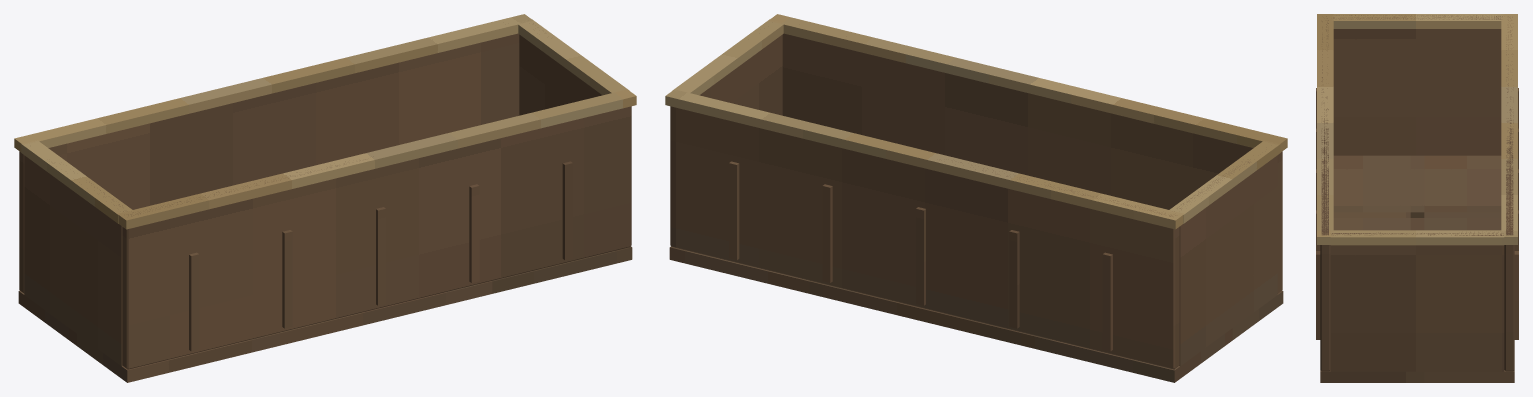
The model's file is vessel-trough.glb.
3 views of the same model, side by side, from view 1: azimuth 30°, elevation 25°; view 2: azimuth 150°, elevation 25°; view 3: azimuth 270°, elevation 25° (orthographic). The views are drawn at different scales.
Visible parts, largest first — view 1: vessel-trough/front-complete-wall, vessel-trough/back-complete-wall, vessel-trough/left-complete-wall, vessel-trough/front-top-rim, vessel-trough/back-top-rim, vessel-trough/right-complete-wall, vessel-trough/drained-floor-panel-2-0, vessel-trough/drained-floor-panel-0-0, vessel-trough/end-top-rim--1, vessel-trough/end-top-rim-1, vessel-trough/drained-floor-panel-4-0, vessel-trough/long-wall-stiffening-rib--1-0 (+5 smaller); view 2: vessel-trough/back-complete-wall, vessel-trough/front-complete-wall, vessel-trough/left-complete-wall, vessel-trough/back-top-rim, vessel-trough/front-top-rim, vessel-trough/right-complete-wall, vessel-trough/drained-floor-panel-2-2, vessel-trough/drained-floor-panel-0-2, vessel-trough/end-top-rim--1, vessel-trough/end-top-rim-1, vessel-trough/drained-floor-panel-4-2, vessel-trough/long-wall-stiffening-rib-1-0 (+5 smaller); view 3: vessel-trough/right-complete-wall, vessel-trough/left-complete-wall, vessel-trough/drained-floor-panel-0-0, vessel-trough/drained-floor-panel-0-2, vessel-trough/back-top-rim, vessel-trough/front-top-rim, vessel-trough/end-top-rim-1, vessel-trough/end-top-rim--1, vessel-trough/front-complete-wall, vessel-trough/back-complete-wall, vessel-trough/drained-floor-panel-4-0, vessel-trough/drained-floor-panel-4-2 (+8 smaller).
Boxes of the visible parts, left/top/right/bottom form: vessel-trough/front-complete-wall: left=122, top=106, right=631, bottom=369; vessel-trough/back-complete-wall: left=19, top=33, right=519, bottom=293; vessel-trough/left-complete-wall: left=24, top=155, right=123, bottom=366; vessel-trough/front-top-rim: left=117, top=89, right=636, bottom=229; vessel-trough/back-top-rim: left=14, top=14, right=533, bottom=152; vessel-trough/right-complete-wall: left=519, top=23, right=602, bottom=115; vessel-trough/drained-floor-panel-2-0: left=280, top=284, right=479, bottom=345; vessel-trough/drained-floor-panel-0-0: left=77, top=334, right=266, bottom=382; vessel-trough/end-top-rim--1: left=21, top=140, right=132, bottom=223; vessel-trough/end-top-rim-1: left=517, top=19, right=629, bottom=95; vessel-trough/drained-floor-panel-4-0: left=492, top=246, right=632, bottom=293; vessel-trough/long-wall-stiffening-rib--1-0: left=189, top=252, right=199, bottom=351; vessel-trough/back-complete-wall: left=670, top=106, right=1179, bottom=369; vessel-trough/front-complete-wall: left=782, top=33, right=1282, bottom=293; vessel-trough/left-complete-wall: left=1174, top=155, right=1277, bottom=366; vessel-trough/back-top-rim: left=665, top=89, right=1184, bottom=229; vessel-trough/front-top-rim: left=768, top=14, right=1287, bottom=152; vessel-trough/right-complete-wall: left=699, top=34, right=782, bottom=115; vessel-trough/drained-floor-panel-2-2: left=822, top=284, right=1021, bottom=345; vessel-trough/drained-floor-panel-0-2: left=1035, top=334, right=1224, bottom=382; vessel-trough/end-top-rim--1: left=1169, top=140, right=1280, bottom=223; vessel-trough/end-top-rim-1: left=672, top=19, right=784, bottom=95; vessel-trough/drained-floor-panel-4-2: left=669, top=246, right=809, bottom=293; vessel-trough/long-wall-stiffening-rib-1-0: left=1102, top=252, right=1112, bottom=351; vessel-trough/right-complete-wall: left=1330, top=232, right=1504, bottom=371; vessel-trough/left-complete-wall: left=1333, top=15, right=1502, bottom=155; vessel-trough/drained-floor-panel-0-0: left=1333, top=155, right=1410, bottom=212; vessel-trough/drained-floor-panel-0-2: left=1424, top=155, right=1501, bottom=212; vessel-trough/back-top-rim: left=1501, top=14, right=1517, bottom=244; vessel-trough/front-top-rim: left=1317, top=14, right=1333, bottom=244; vessel-trough/end-top-rim-1: left=1330, top=230, right=1504, bottom=245; vessel-trough/end-top-rim--1: left=1330, top=14, right=1503, bottom=28; vessel-trough/front-complete-wall: left=1320, top=16, right=1330, bottom=371; vessel-trough/back-complete-wall: left=1504, top=16, right=1514, bottom=371; vessel-trough/drained-floor-panel-4-0: left=1320, top=370, right=1410, bottom=382; vessel-trough/drained-floor-panel-4-2: left=1424, top=370, right=1514, bottom=382.
Bounding box in the file's own units: 0.771 × 0.237 × 0.296.
2 materials, 2 textured.
